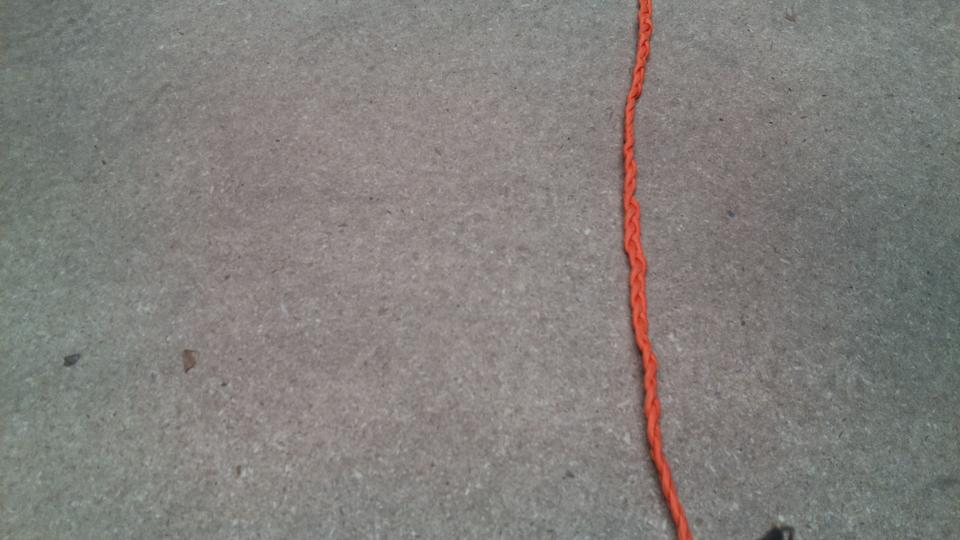rope: (615, 1, 705, 540)
